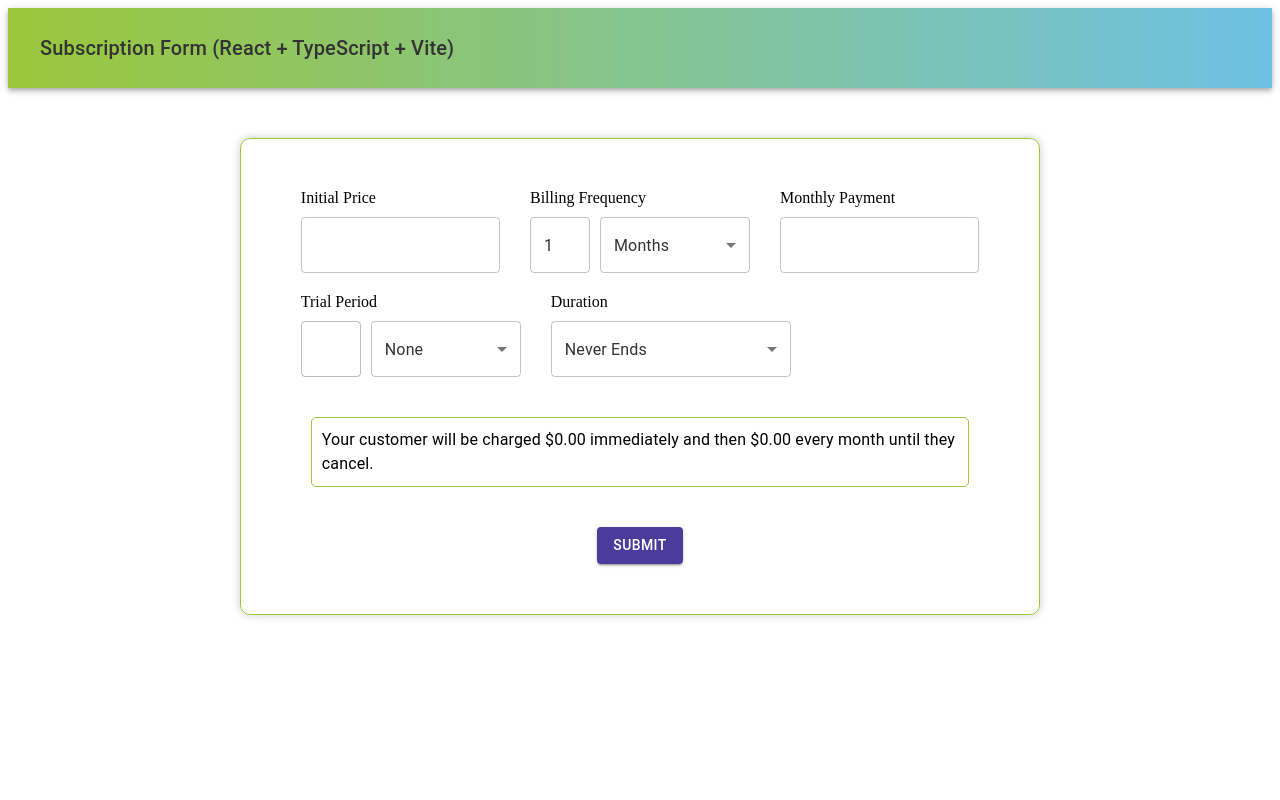
Test: Form Component › should display error message for required field periodic payment
Click the button with test id "submit-btn" at point(640, 546), box [597, 527, 682, 564]
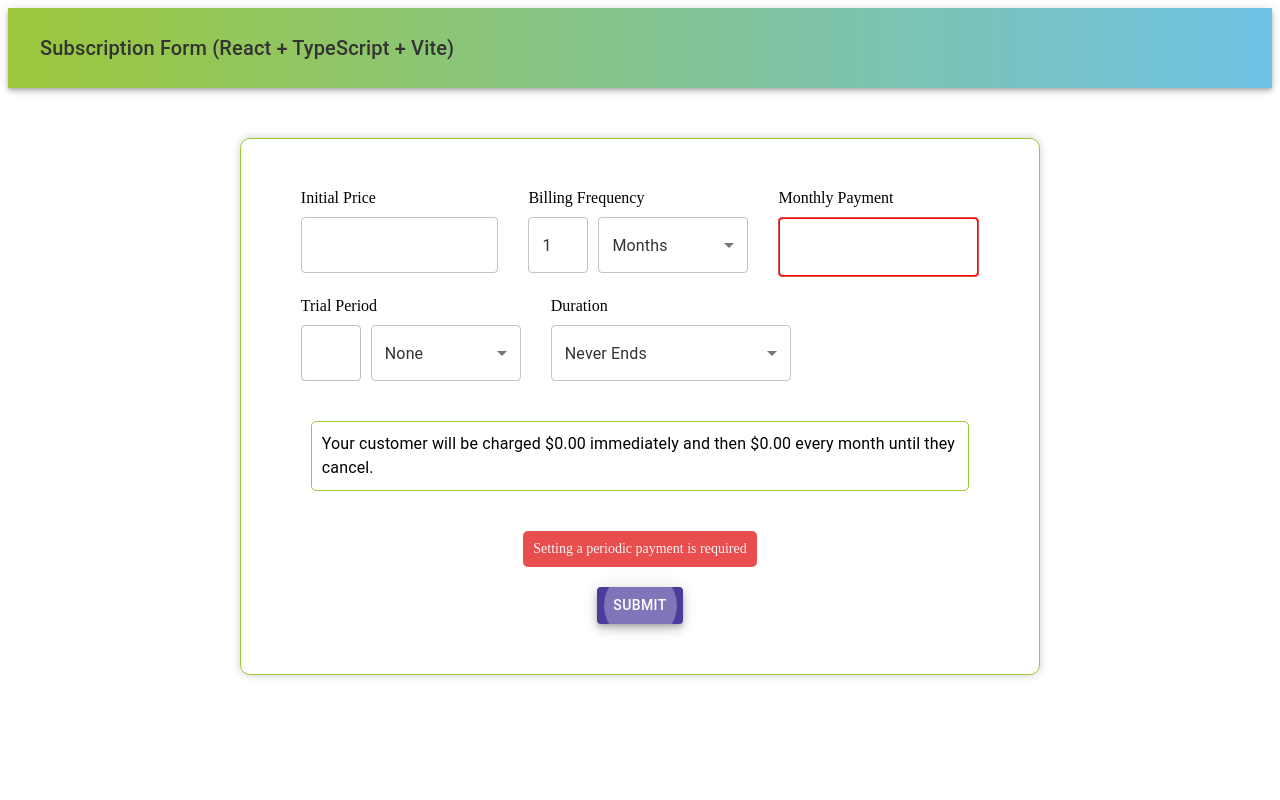
expect the text "Setting a periodic payment is required" is shown: met, box [523, 531, 757, 567]
